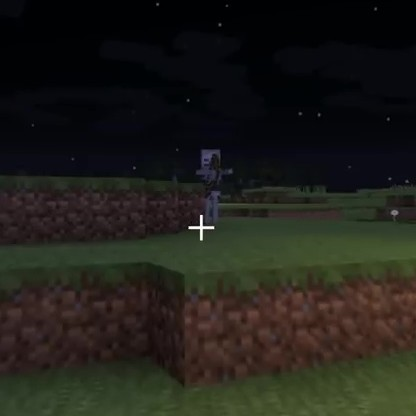skeleton: (197, 148, 231, 217)
